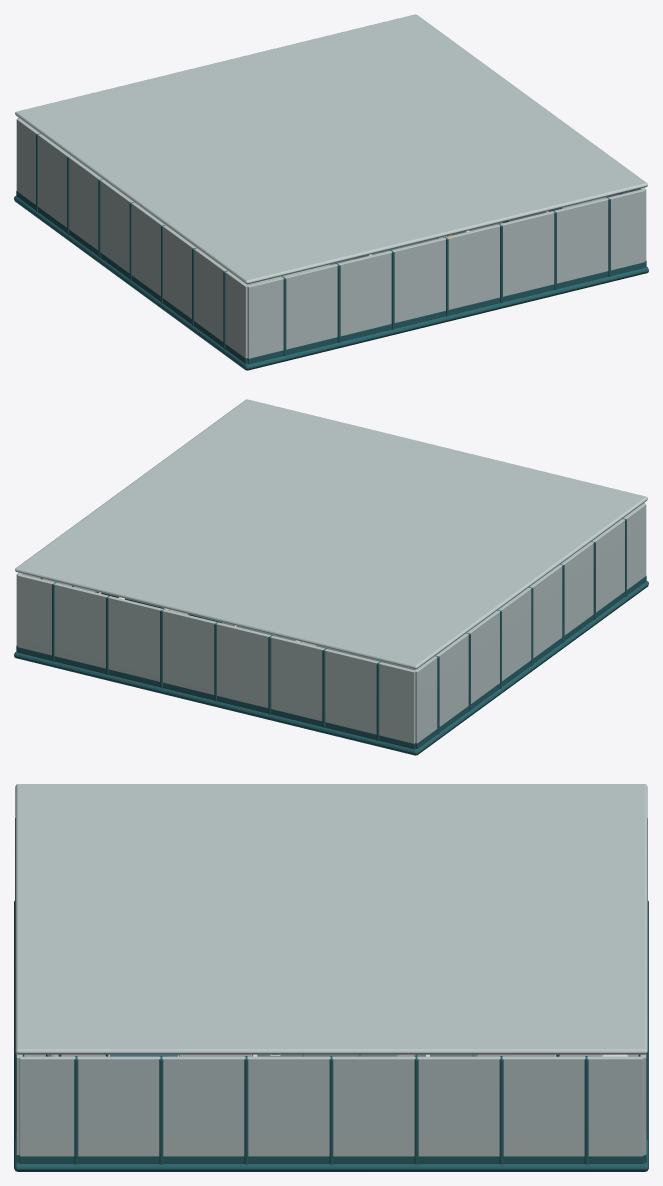
Rendered from Mars_Hab_Interior.glb.
The picture shows the model from 3 angles, top to bottom: view 1: azimuth 30°, elevation 25°; view 2: azimuth 150°, elevation 25°; view 3: azimuth 270°, elevation 25°; orthographic projection. The views are drawn at different scales.
Parts seen in each view (by area): view 1: Roof | Pressure liner, Shell_S | Pressure liner, Shell_W | Pressure liner, Shell_S | Deep teal, Structure | Deep teal, Shell_W | Deep teal; view 2: Roof | Pressure liner, Shell_N | Pressure liner, Shell_W | Pressure liner, Structure | Deep teal, Shell_N | Deep teal, Shell_W | Deep teal; view 3: Roof | Pressure liner, Shell_E | Pressure liner, Shell_E | Deep teal, Structure | Deep teal, Structure | Warm ceramic, Structure | Floor composite.
Boxes of the visible parts, <box> form: Roof | Pressure liner: <box>15,14,647,284</box>; Shell_S | Pressure liner: <box>247,189,645,358</box>; Shell_W | Pressure liner: <box>16,118,247,358</box>; Shell_S | Deep teal: <box>247,197,645,364</box>; Structure | Deep teal: <box>14,196,648,370</box>; Shell_W | Deep teal: <box>16,133,247,363</box>; Roof | Pressure liner: <box>15,399,647,669</box>; Shell_N | Pressure liner: <box>17,574,415,743</box>; Shell_W | Pressure liner: <box>415,503,646,743</box>; Structure | Deep teal: <box>14,581,648,755</box>; Shell_N | Deep teal: <box>17,582,415,749</box>; Shell_W | Deep teal: <box>415,518,646,748</box>; Roof | Pressure liner: <box>15,784,647,1054</box>; Shell_E | Pressure liner: <box>19,1056,643,1156</box>; Shell_E | Deep teal: <box>19,1056,643,1164</box>; Structure | Deep teal: <box>14,900,648,1171</box>; Structure | Warm ceramic: <box>24,1054,638,1056</box>; Structure | Floor composite: <box>252,1054,477,1056</box>.
Bounding box in the file's own units: 22.4 × 4.78 × 22.4.
